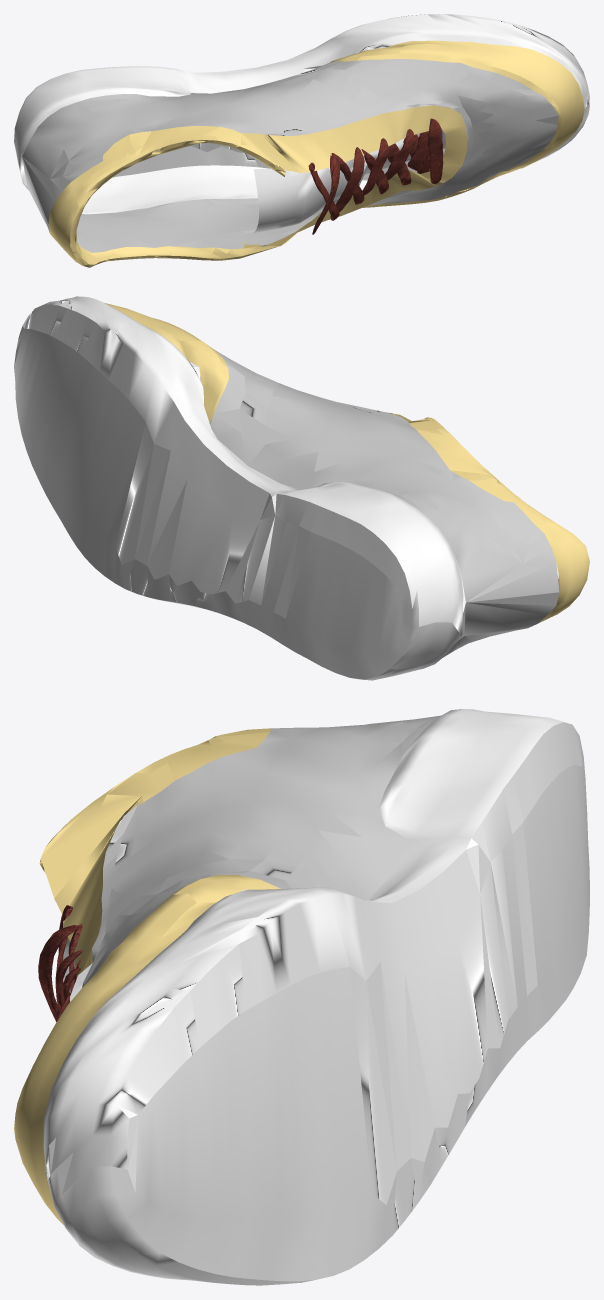
3 views of the same model, one above another, from view 1: azimuth 30°, elevation 25°; view 2: azimuth 150°, elevation 25°; view 3: azimuth 270°, elevation 25° (orthographic). The views are drawn at different scales.
Parts seen in each view (by area): view 1: 02_-_Default, 07_-_Default, 01_-_Default, 03_-_Default; view 2: 07_-_Default, 02_-_Default, 01_-_Default; view 3: 07_-_Default, 02_-_Default, 01_-_Default, 03_-_Default.
Boxes of the visible parts, box(x1,y1,x2,y2) form: 02_-_Default: box(22, 59, 558, 252); 07_-_Default: box(14, 14, 589, 233); 01_-_Default: box(48, 40, 584, 267); 03_-_Default: box(308, 118, 443, 234); 07_-_Default: box(14, 296, 463, 680); 02_-_Default: box(210, 348, 559, 657); 01_-_Default: box(105, 303, 589, 622); 07_-_Default: box(43, 709, 589, 1285); 02_-_Default: box(70, 715, 440, 1001); 01_-_Default: box(14, 728, 280, 1224); 03_-_Default: box(38, 905, 83, 1021).
Size of the model in its own units: 324 by 117 by 164.
